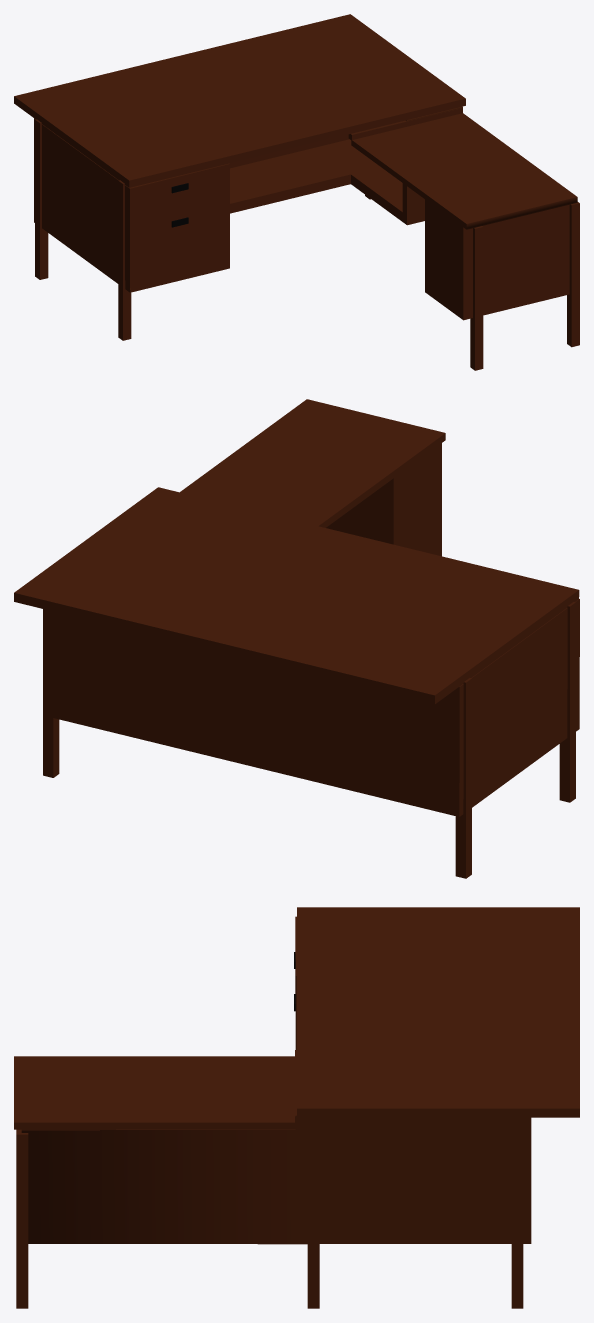
Rendered from Desk_Model_w_Material.fbx.
3 views of the same model, one above another, from view 1: azimuth 30°, elevation 25°; view 2: azimuth 150°, elevation 25°; view 3: azimuth 270°, elevation 25° (orthographic). The views are drawn at different scales.
Parts seen in each view (by area): view 1: Desktop_Board, MainDesk_Mesh, Side_Desktop, FileCupboard_Desk, Front_Leg_Mid, Front_Leg_Right, Front_Leg_Left, Back_Leg_Left, Desk_Joint; view 2: Desktop_Board, MainDesk_Mesh, Side_Desktop, FileCupboard_Desk, Back_Leg_Left, Front_Leg_Left, Back_Leg_Right; view 3: Desktop_Board, MainDesk_Mesh, Side_Desktop, Mid_Leg_Right, Back_Leg_Right, Front_Leg_Right.
Boxes of the visible parts, x1,y1,x2,y2 form: Desktop_Board: (14,14,465,187); MainDesk_Mesh: (34,106,462,292); Side_Desktop: (351,113,577,229); FileCupboard_Desk: (425,199,569,320); Front_Leg_Mid: (470,226,483,370); Front_Leg_Right: (567,202,579,347); Front_Leg_Left: (118,180,131,340); Back_Leg_Left: (35,119,48,279); Desk_Joint: (348,108,462,139); Desktop_Board: (14,487,579,704); MainDesk_Mesh: (43,599,579,816); Side_Desktop: (180,399,445,527); FileCupboard_Desk: (326,443,441,556); Back_Leg_Left: (455,678,471,878); Front_Leg_Left: (559,602,575,802); Back_Leg_Right: (43,715,59,777); Desktop_Board: (297,907,579,1117); MainDesk_Mesh: (21,916,531,1244); Side_Desktop: (14,1056,295,1129); Mid_Leg_Right: (307,1117,319,1308); Back_Leg_Right: (511,1117,523,1308); Front_Leg_Right: (16,1129,28,1308).
Size of the model in its own units: 60.98 by 72 by 28.07.
